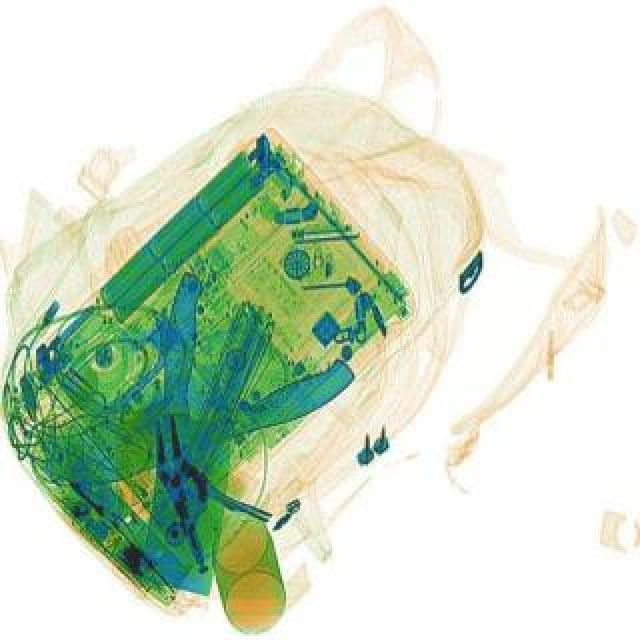knife: (42, 310, 362, 500), (140, 264, 248, 592)
